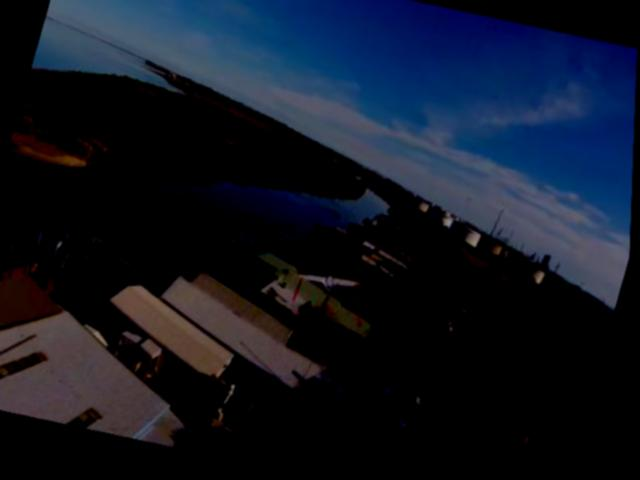uav: (295, 266, 370, 305)
